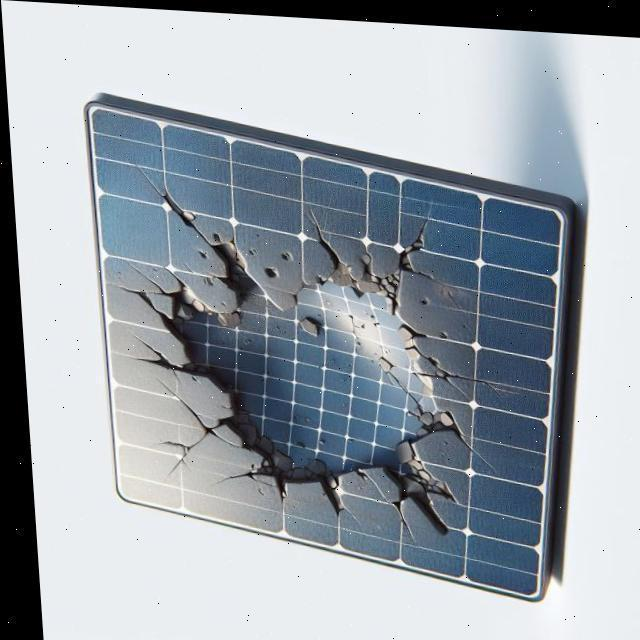Anomaly Solar Panel: (42, 105, 573, 594)
Structural Damage: (120, 225, 473, 538)
